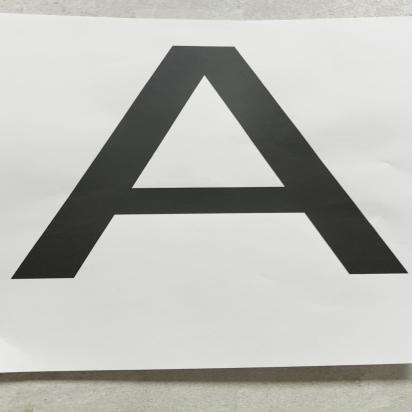seat: (10, 22, 412, 300)
